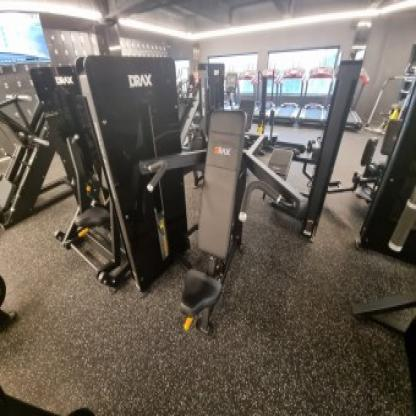shoulder press machine: (74, 38, 330, 363)
